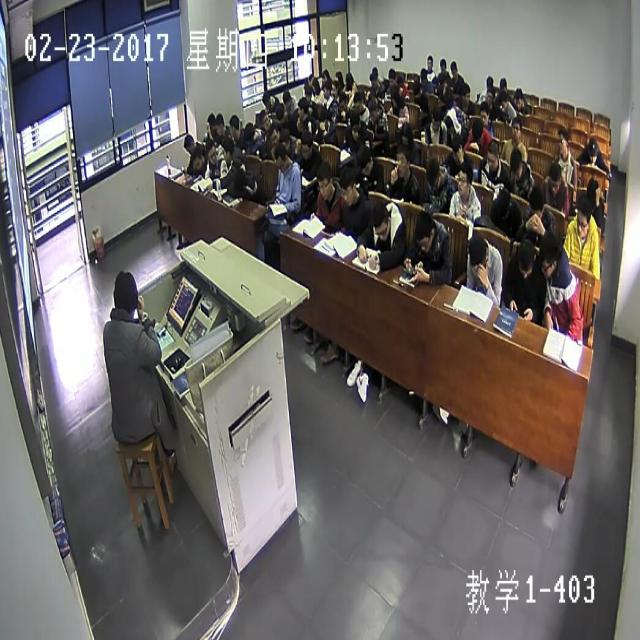person: (112, 271, 138, 312), (538, 230, 558, 276), (413, 213, 435, 251), (516, 238, 534, 277), (372, 201, 389, 241), (470, 232, 487, 270), (576, 196, 591, 239), (339, 167, 356, 204), (457, 165, 472, 197), (318, 165, 332, 199), (529, 187, 543, 220), (426, 157, 441, 187), (496, 186, 510, 217), (546, 164, 560, 194), (300, 131, 314, 160), (357, 148, 371, 177), (586, 176, 600, 204), (233, 167, 247, 193), (486, 142, 499, 170), (397, 144, 408, 176), (348, 112, 362, 136), (221, 131, 234, 156), (446, 111, 458, 138), (192, 143, 204, 169), (212, 112, 224, 138), (274, 145, 287, 168), (431, 107, 444, 130), (513, 86, 525, 110), (453, 134, 464, 160), (511, 146, 522, 172), (203, 140, 215, 163), (227, 114, 239, 136), (243, 121, 255, 143), (400, 122, 411, 146), (496, 90, 508, 112), (182, 134, 195, 154), (557, 131, 568, 154), (512, 117, 522, 142), (274, 100, 285, 122), (478, 100, 488, 124), (297, 97, 308, 118), (352, 91, 363, 112), (471, 118, 482, 139), (461, 83, 471, 106), (588, 141, 598, 164), (278, 127, 290, 146), (206, 112, 216, 134), (368, 96, 378, 118), (390, 88, 400, 110), (444, 88, 454, 110), (258, 109, 269, 128), (318, 113, 329, 132), (268, 126, 280, 143), (262, 90, 272, 110), (484, 74, 494, 94), (308, 77, 319, 94), (498, 78, 509, 95), (282, 88, 292, 106), (320, 80, 330, 98), (394, 73, 404, 91), (304, 83, 313, 102), (330, 83, 340, 100), (448, 59, 458, 76), (344, 73, 353, 91), (412, 79, 421, 96), (388, 67, 396, 86), (369, 72, 378, 87), (335, 69, 343, 85), (420, 67, 428, 82), (322, 69, 329, 86), (439, 58, 446, 74), (371, 67, 378, 82), (427, 55, 432, 72)
